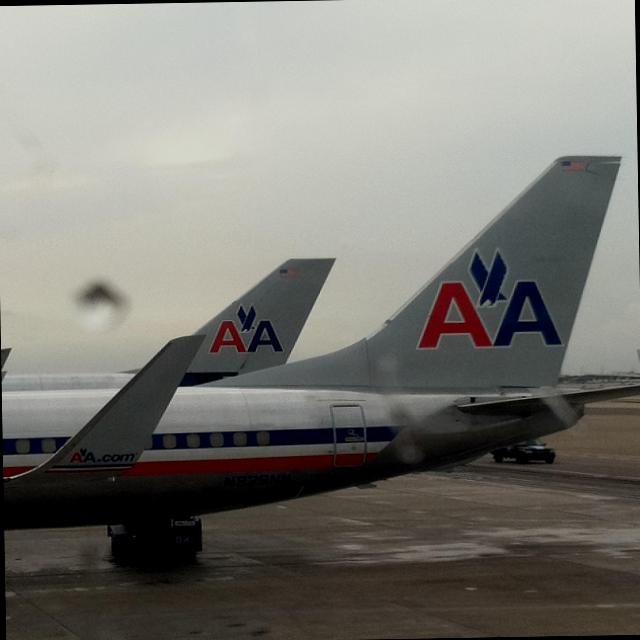Vehicle: (492, 438, 556, 468)
